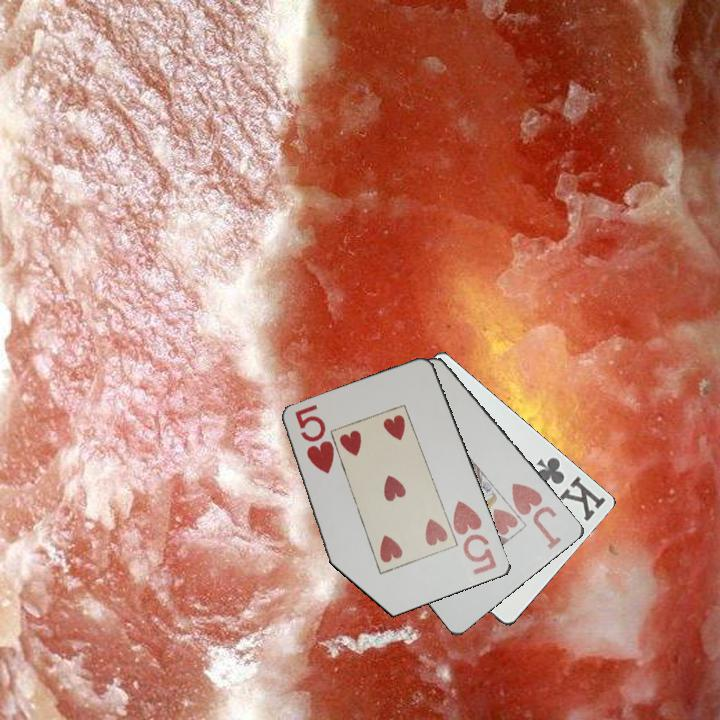5h: (450, 497, 500, 578), (292, 403, 336, 477)
Jh: (507, 480, 565, 553)
Kc: (533, 453, 609, 524)
